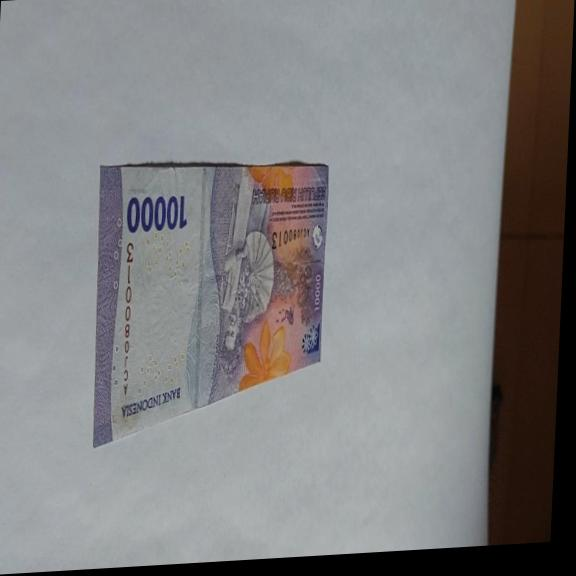Kertas: (87, 152, 331, 450), (125, 191, 188, 236)
